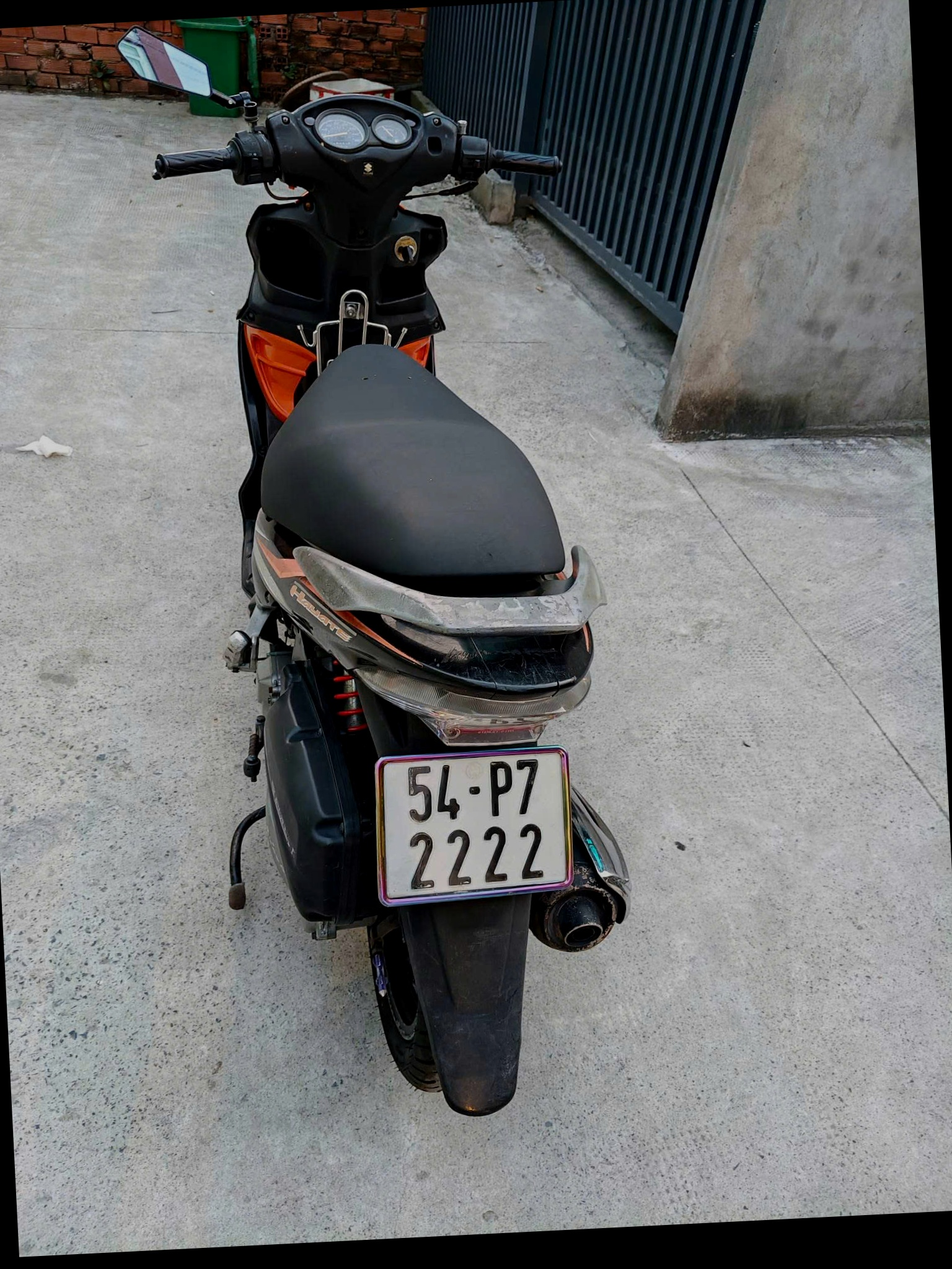Bien-so: (408, 744, 613, 911)
